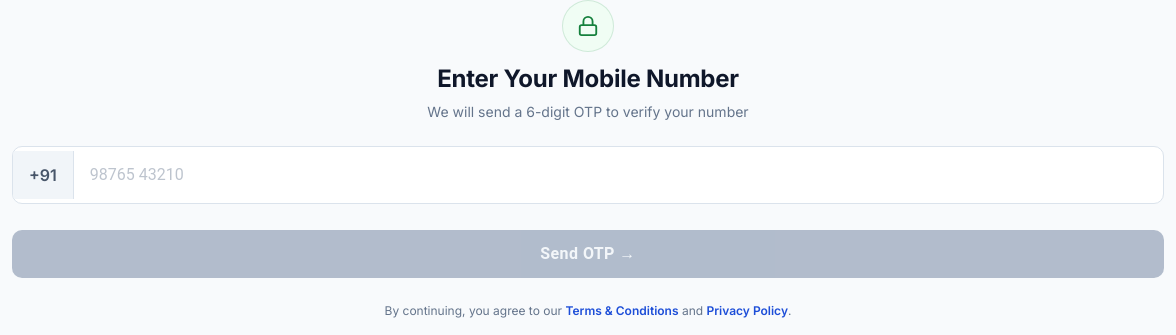
Test: PhoneForm › should validate 10-digit mobile number
Type "123" into the field with placeholder "98765 43210" at (618, 175), box [90,159,1147,191]
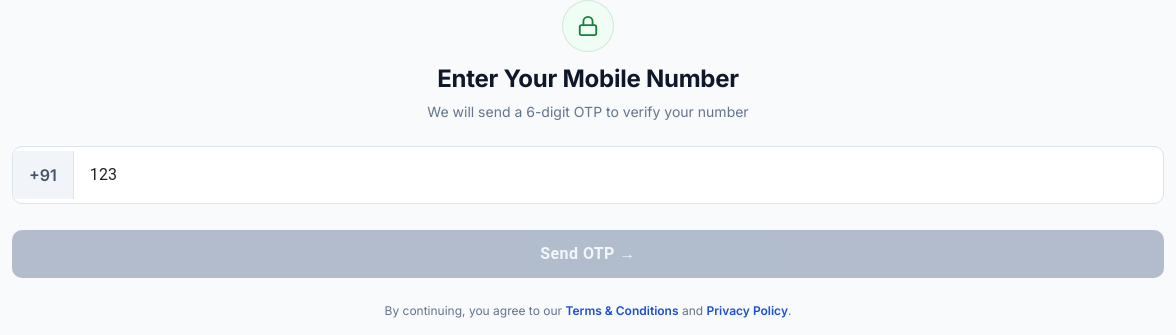
Leave the field with placeholder "98765 43210", box [90,159,1147,191]
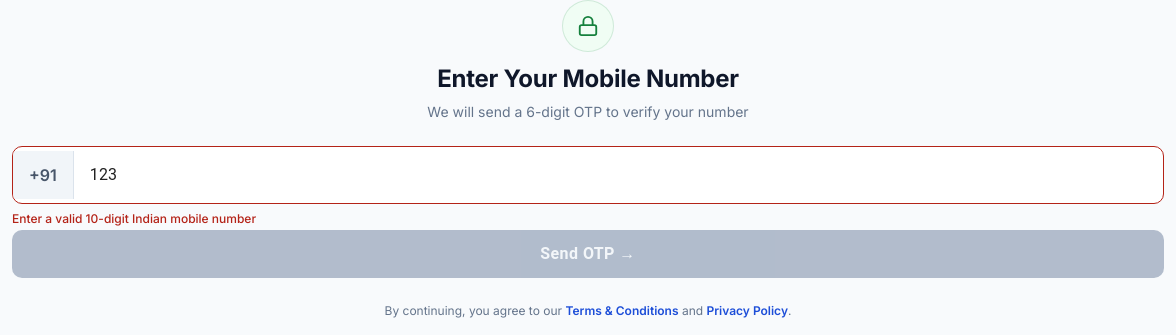
expect the button is disabled: met, box [12,230,1164,278]
expect the text "Enter a valid 10-digit Indian mobile number" is shown: met, box [12,210,256,228]
